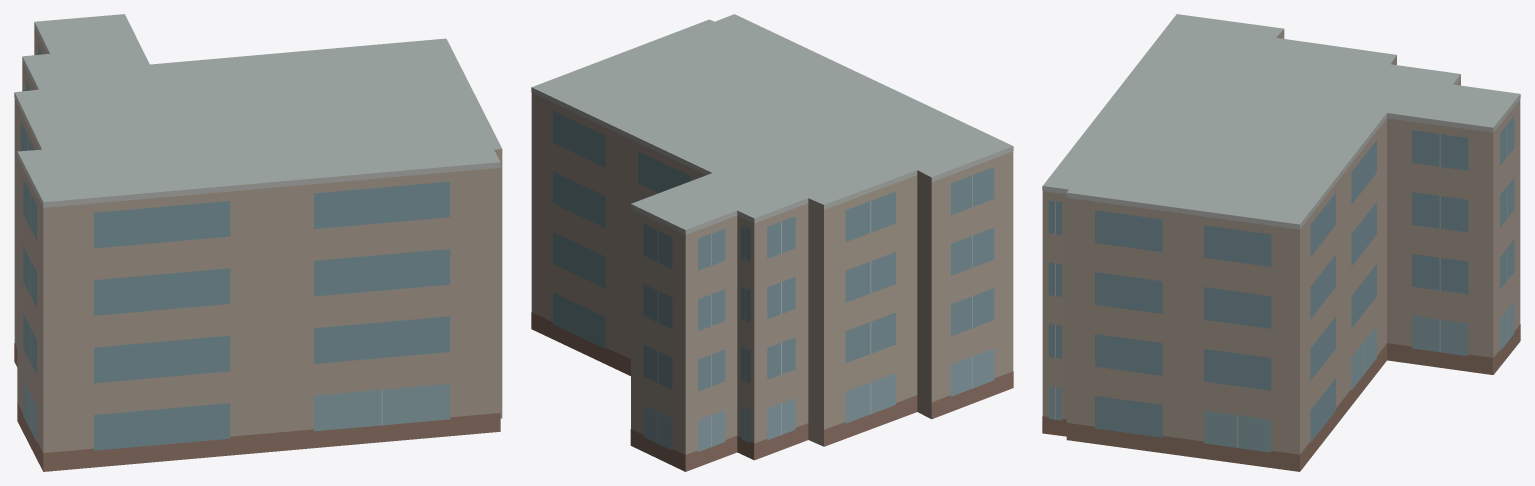
The model's file is survey-upis-32490597.glb.
The picture shows the model from 3 angles, left to right: view 1: azimuth 30°, elevation 25°; view 2: azimuth 150°, elevation 25°; view 3: azimuth 270°, elevation 25°; orthographic projection. The views are drawn at different scales.
Parts seen in each view (by area): view 1: survey-upis-32490597.tmp; view 2: survey-upis-32490597.tmp; view 3: survey-upis-32490597.tmp.
Part boxes in pixels (x1=…): survey-upis-32490597.tmp: x1=14, y1=14, x2=502, y2=471; survey-upis-32490597.tmp: x1=531, y1=14, x2=1013, y2=471; survey-upis-32490597.tmp: x1=1042, y1=14, x2=1520, y2=471.
Size of the model in its own units: 21.55 by 11.8 by 20.67.
